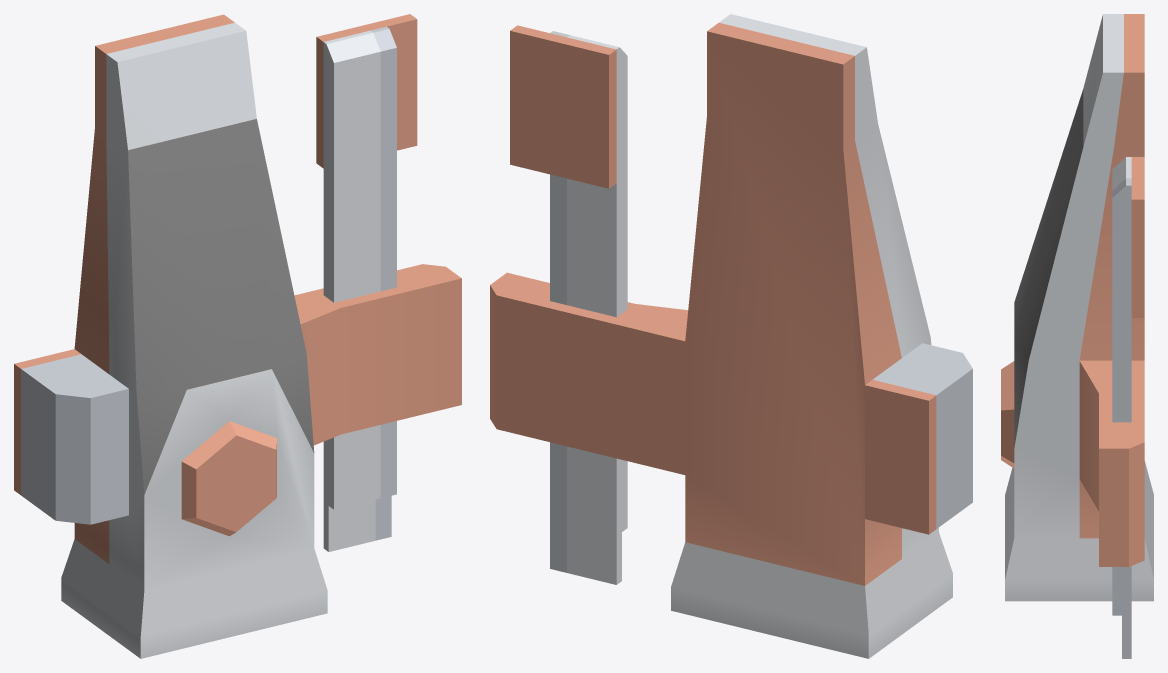
The model's file is spaceCraft5.glb.
3 renders of one model, left to right at view 1: azimuth 30°, elevation 25°; view 2: azimuth 150°, elevation 25°; view 3: azimuth 270°, elevation 25°, orthographic. The views are drawn at different scales.
Parts seen in each view (by area): view 1: spaceCraft5; view 2: spaceCraft5; view 3: spaceCraft5.
Boxes of the visible parts, left/top/right/bottom form: spaceCraft5: left=14, top=14, right=461, bottom=658; spaceCraft5: left=490, top=14, right=972, bottom=658; spaceCraft5: left=1001, top=14, right=1153, bottom=658.
Size of the model in its own units: 12.96 by 16.13 by 4.34.
